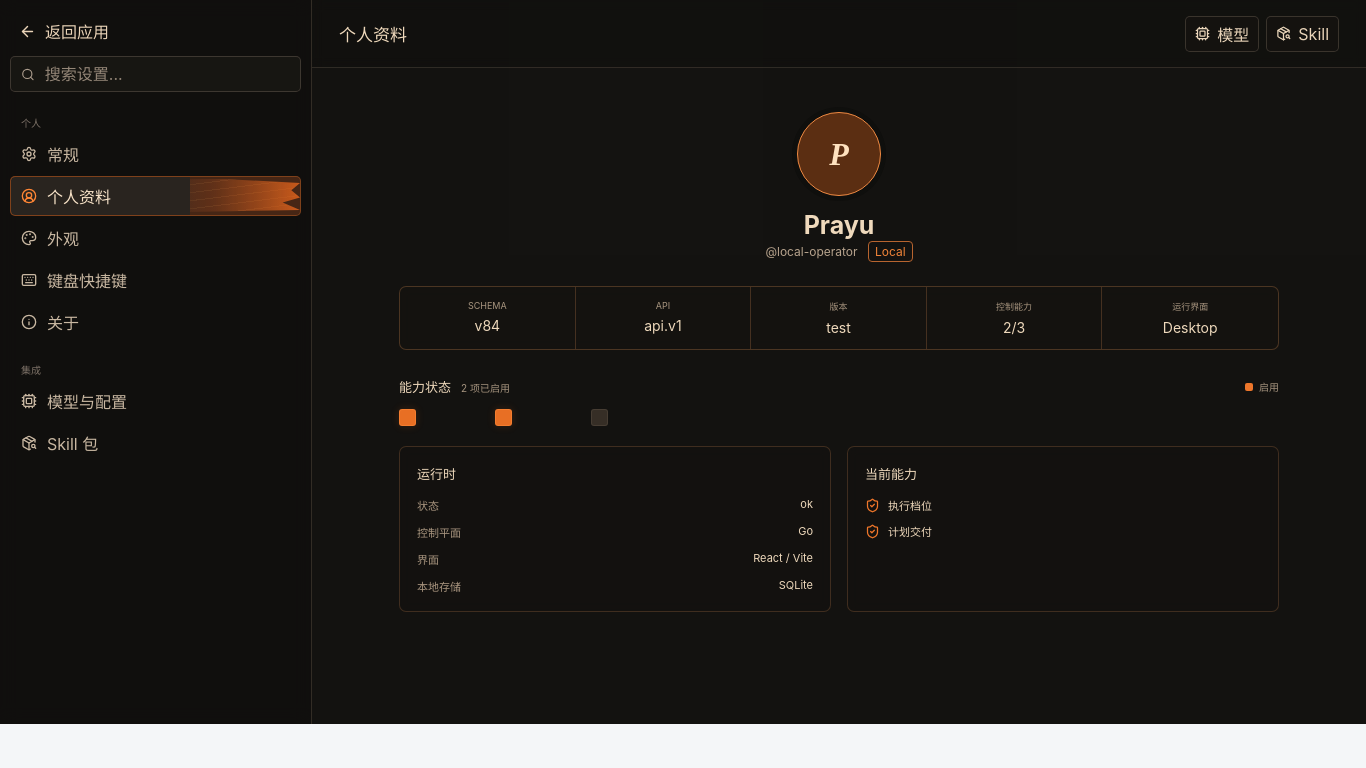
Test: SettingsView › projects real runtime facts and moves the selected brush state with navigation
The image size is (1366, 768).
Expected: the heading "Prayu" is shown, [804,210,874,240]
Expected: the text "v84" is shown, [474,317,500,334]
Click the button "常规": {"x": 63, "y": 155} [10,134,301,174]
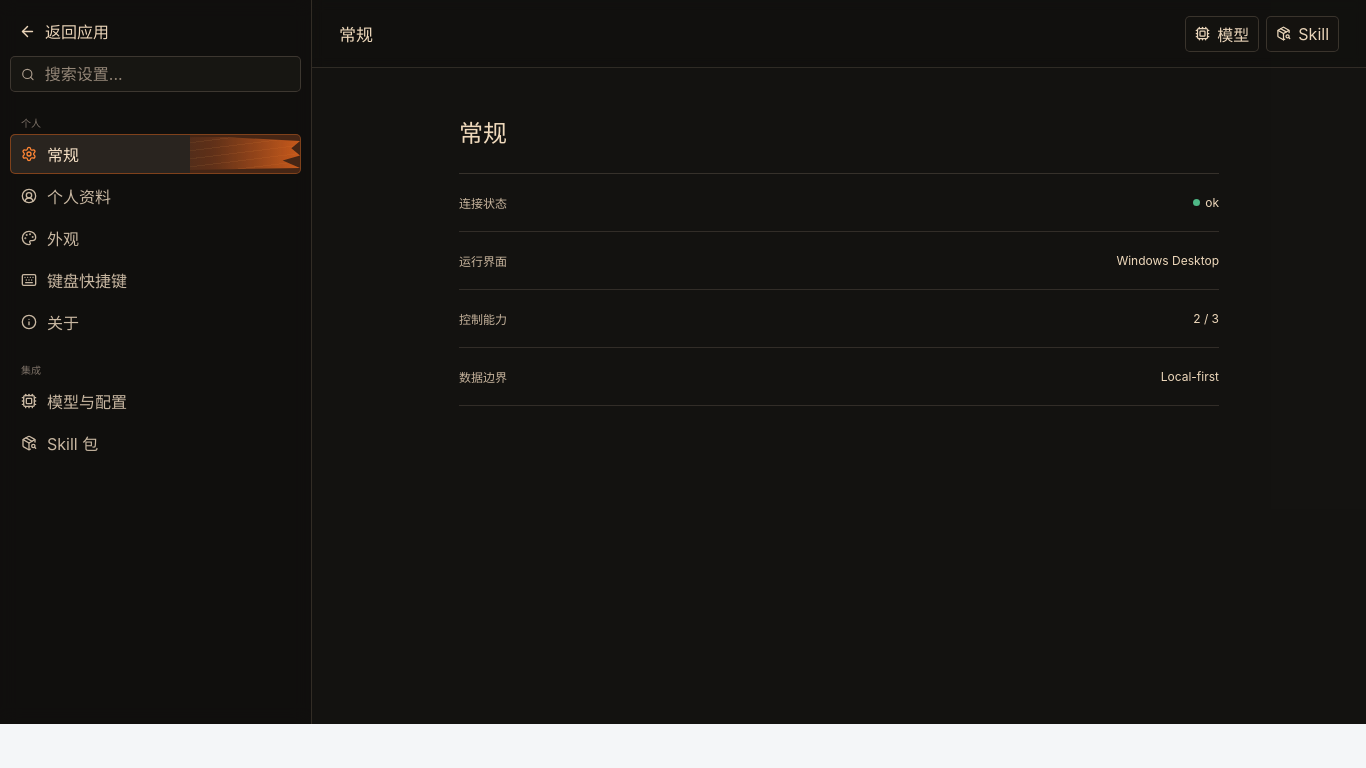
Expected: the heading "常规" is shown, [459,119,507,148]
